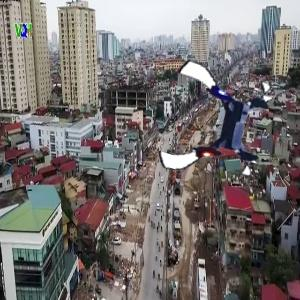drone: (158, 68, 273, 183)
